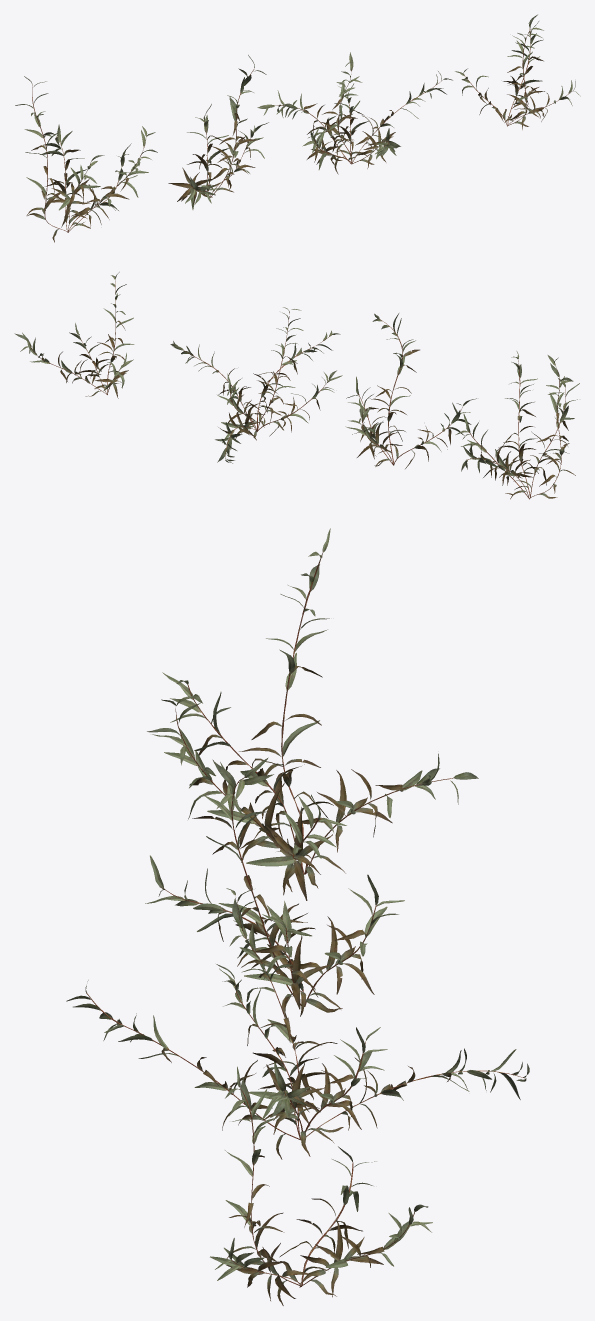
The model's file is shrub_02.glb.
3 renders of one model, top to bottom at view 1: azimuth 30°, elevation 25°; view 2: azimuth 150°, elevation 25°; view 3: azimuth 270°, elevation 25°, orthographic. The views are drawn at different scales.
Visible parts, largest first — view 1: shrub_02_a; view 2: shrub_02_a; view 3: shrub_02_a.
Boxes of the visible parts, box(x1,y1,x2,y2) form: shrub_02_a: box(15, 14, 580, 242); shrub_02_a: box(14, 272, 579, 499); shrub_02_a: box(66, 528, 529, 1305).
Bounding box in the file's own units: 6.05 × 1.7 × 2.28.
1 material, 1 textured.
